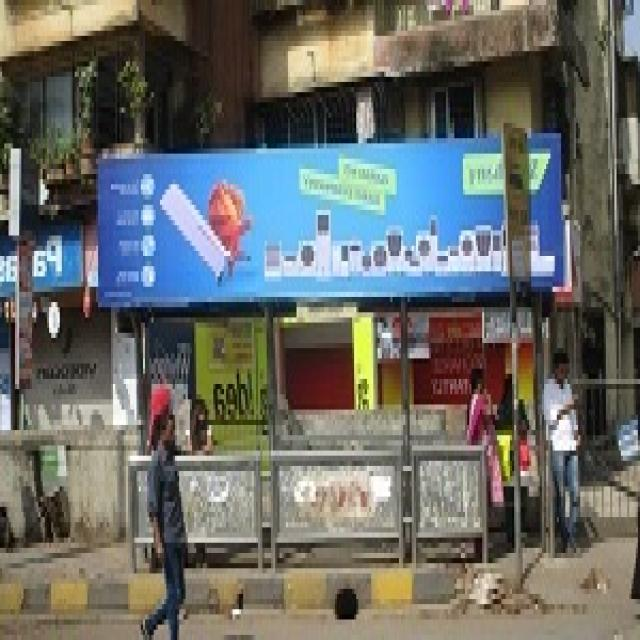Werbetafel frei: (94, 129, 559, 310)
